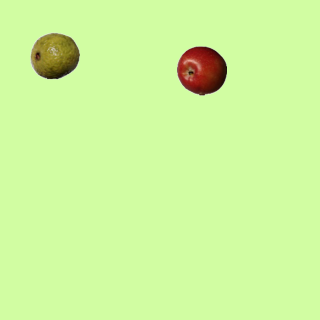Apple Braeburn: (176, 45, 226, 95)
Guava: (29, 30, 79, 80)
